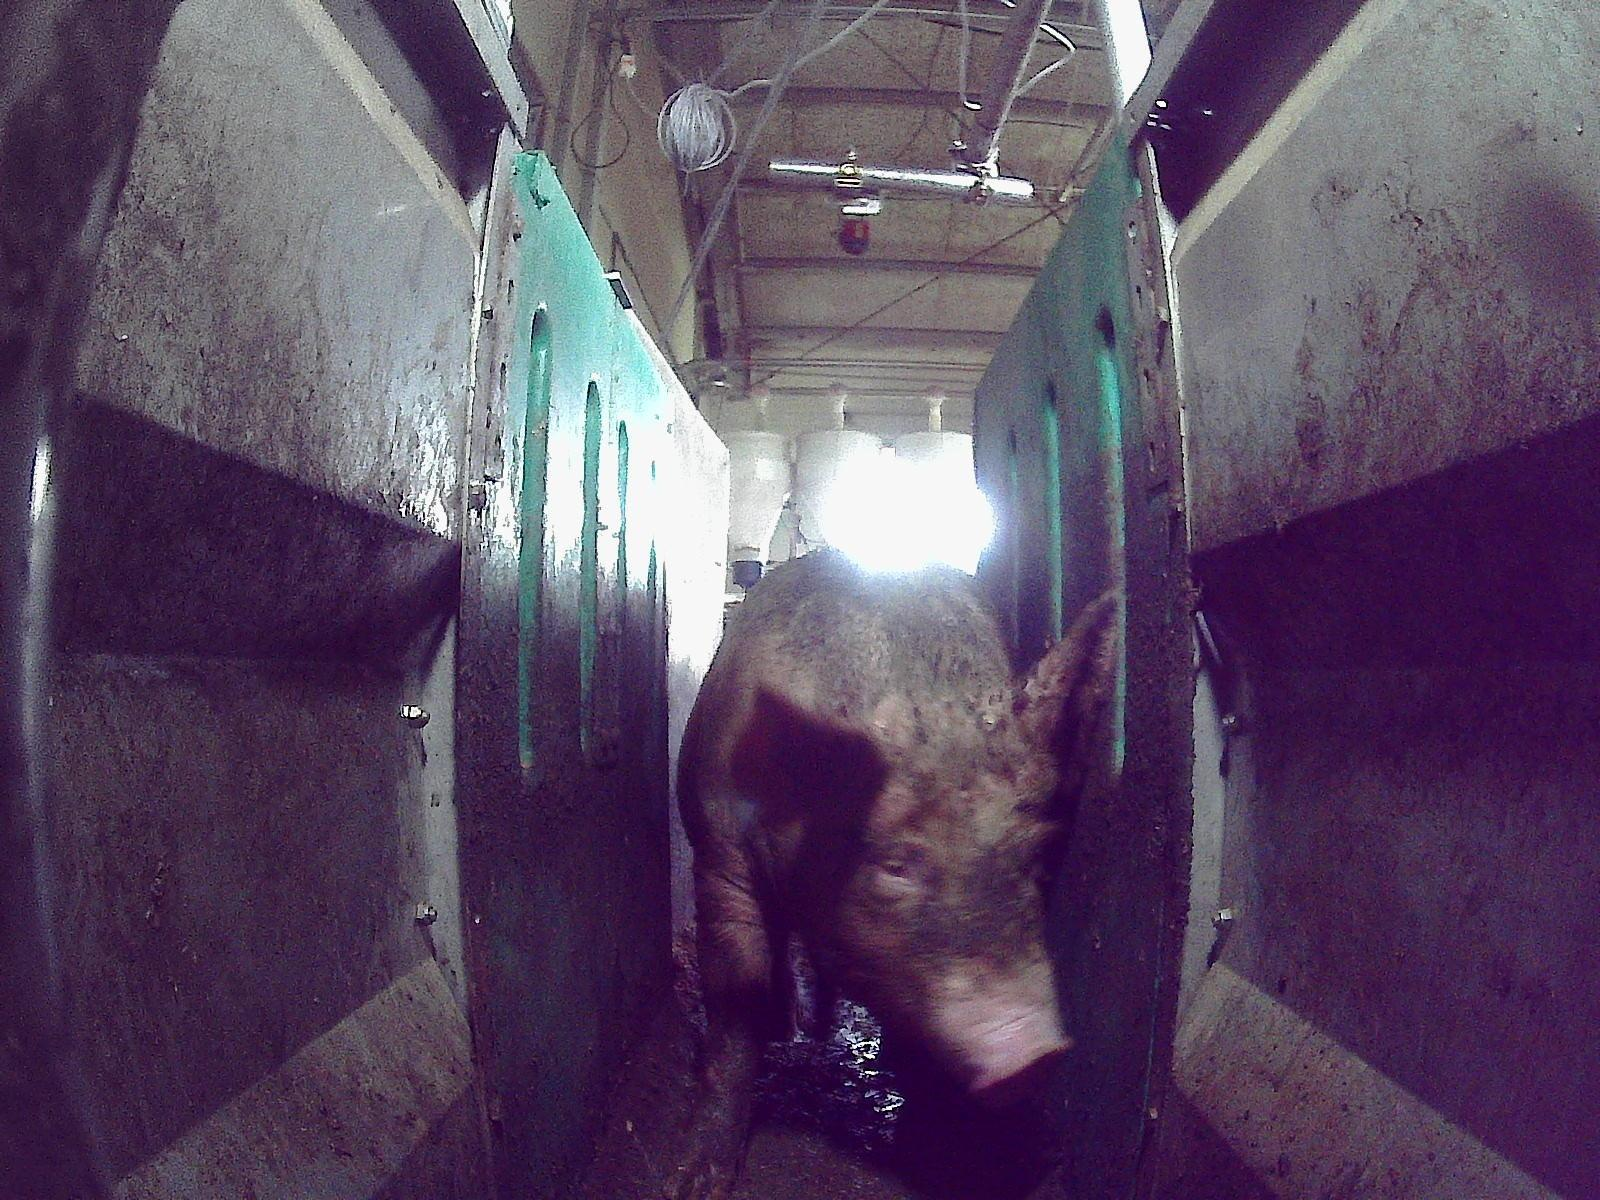Face: (825, 735, 1071, 1111)
